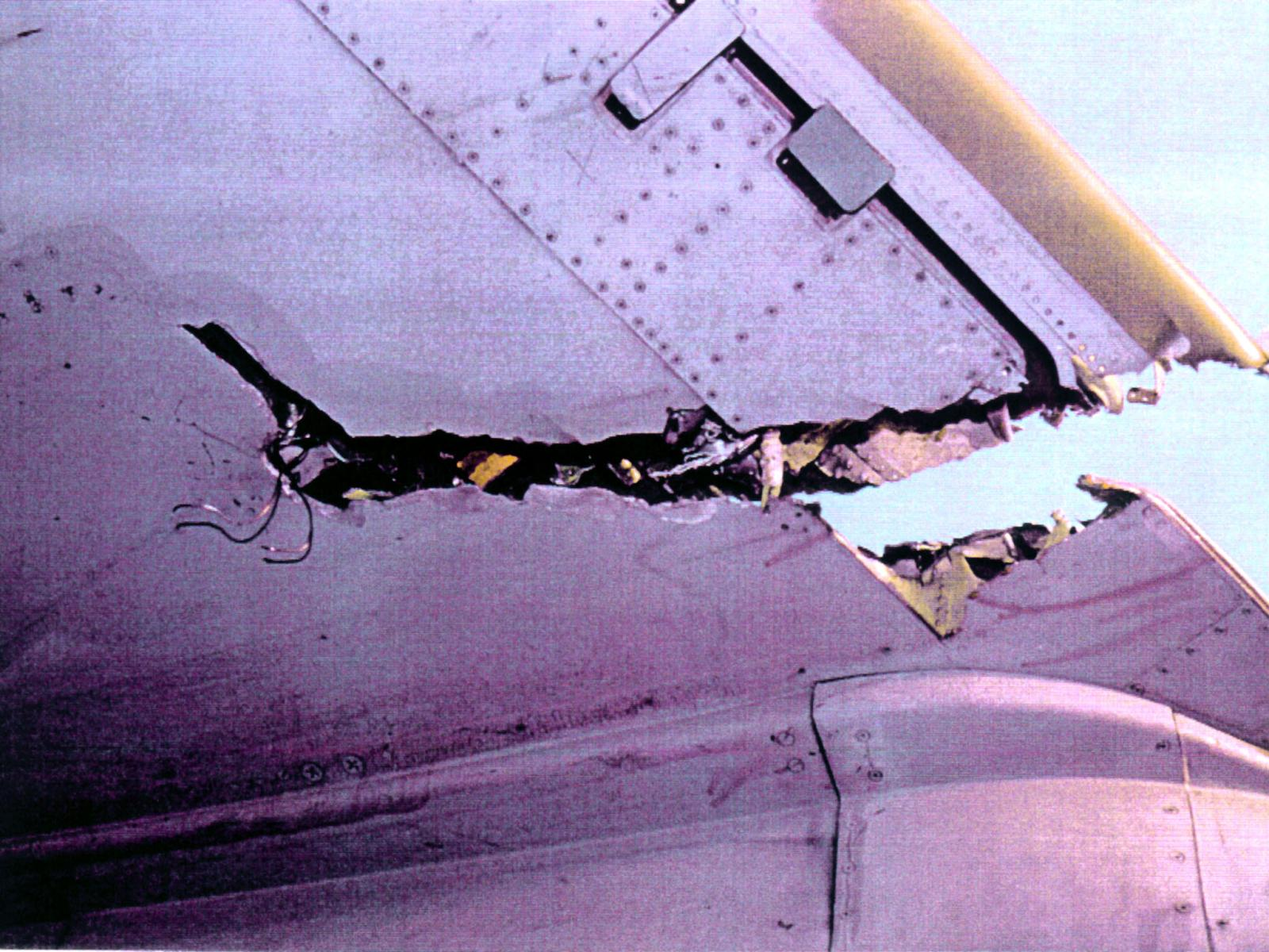Wing_damage: (188, 325, 1029, 509), (833, 484, 1137, 640), (1021, 323, 1263, 431)
